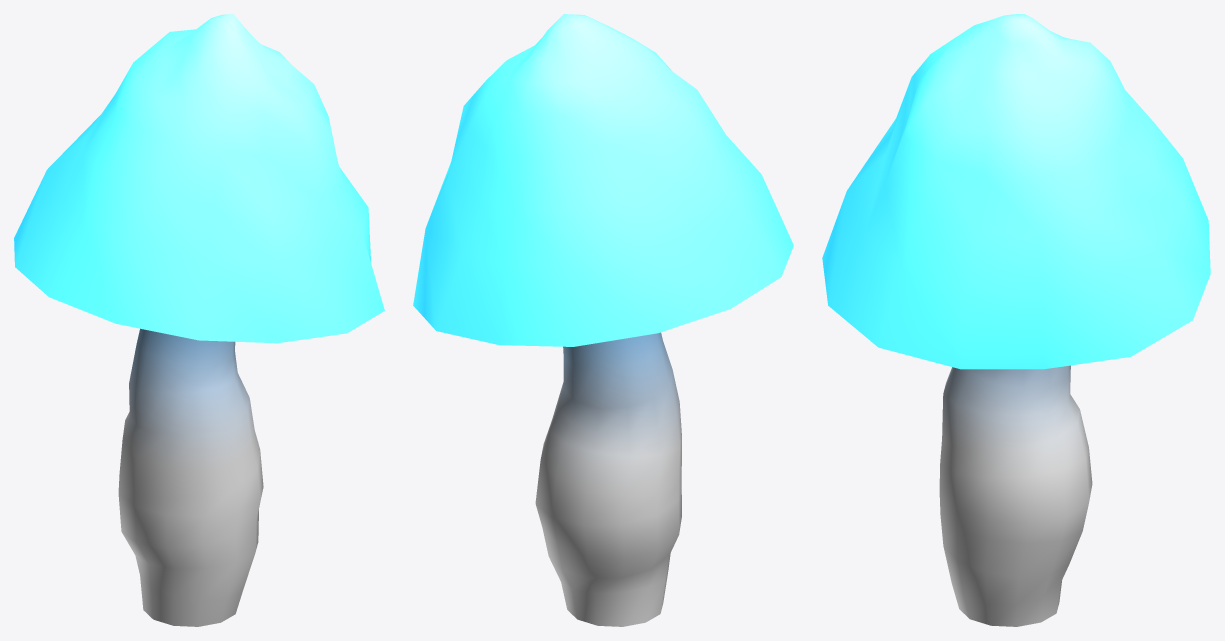
File: mushroom_7.glb
3 views of the same model, side by side, from view 1: azimuth 30°, elevation 25°; view 2: azimuth 150°, elevation 25°; view 3: azimuth 270°, elevation 25° (orthographic). The views are drawn at different scales.
Parts seen in each view (by area): view 1: geo1; view 2: geo1; view 3: geo1.
Boxes of the visible parts, left/top/right/bottom form: geo1: left=14, top=14, right=384, bottom=626; geo1: left=413, top=14, right=793, bottom=626; geo1: left=822, top=14, right=1210, bottom=626.
Size of the model in its own units: 0.2526 by 0.4463 by 0.2576.
